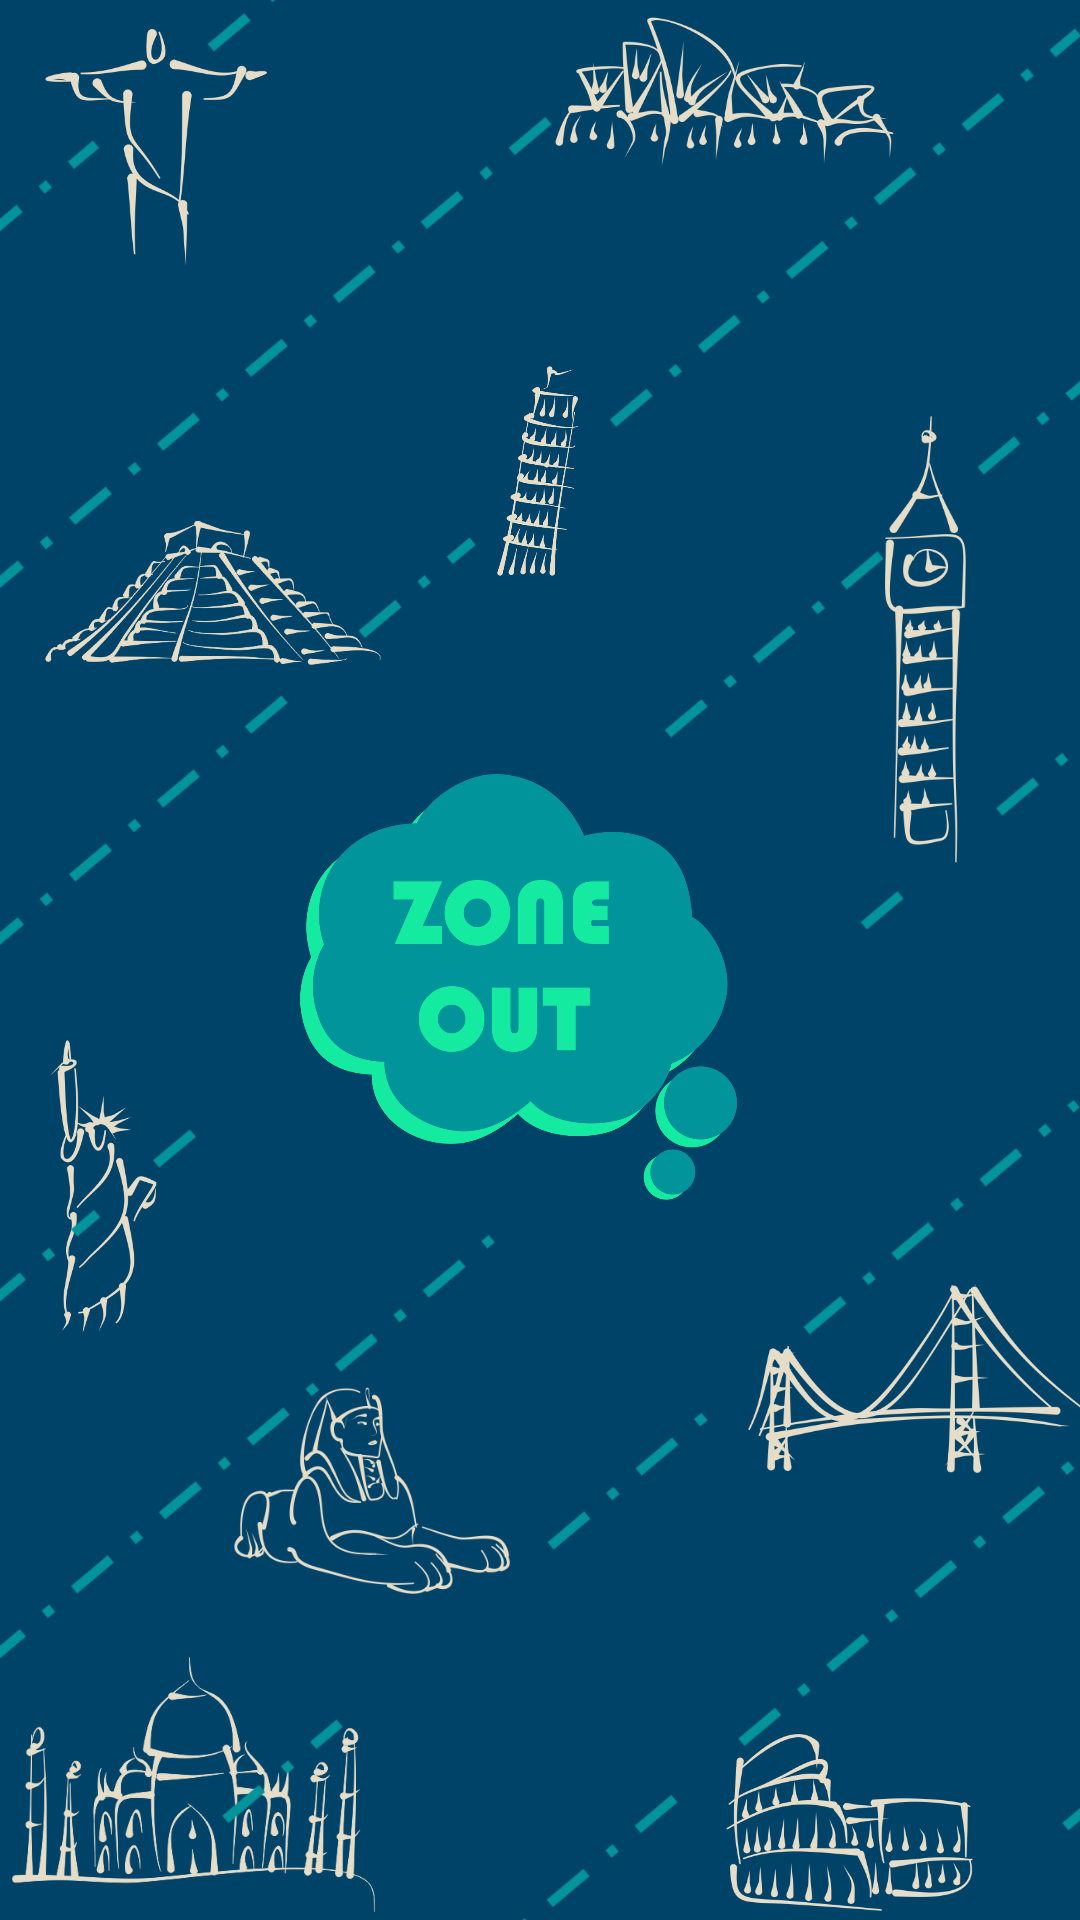

Locate icon controls on the screen. Image size 1080×1920, boxes as Rect(x1, y1, x2, y2).
cristoredentor: Rect(45, 14, 267, 265)
esfinge: Rect(218, 1387, 510, 1594)
estatualiberdade: Rect(51, 1040, 157, 1332)
pisa: Rect(497, 366, 578, 576)
sanfrancisco: Rect(748, 1285, 1080, 1473)
